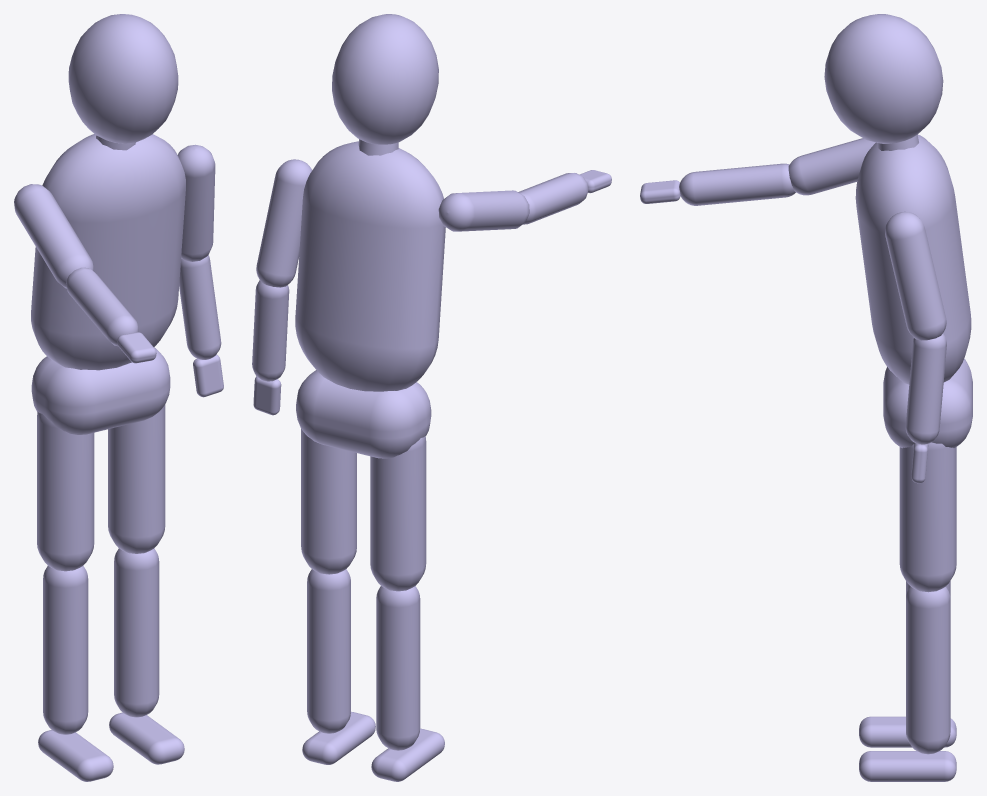
File: mannequin-child.glb
3 renders of one model, left to right at view 1: azimuth 30°, elevation 25°; view 2: azimuth 150°, elevation 25°; view 3: azimuth 270°, elevation 25°, orthographic. The views are drawn at different scales.
Parts seen in each view (by area): view 1: chest, headMesh, pelvis, thighR, thighL, shinL, shinR, upperArmR, upperArmL, foreArmL, foreArmR, footR (+3 smaller); view 2: chest, headMesh, pelvis, thighR, shinR, thighL, shinL, upperArmL, upperArmR, foreArmL, foreArmR, footL (+2 smaller); view 3: chest, headMesh, thighL, shinL, upperArmL, pelvis, foreArmR, foreArmL, upperArmR, footL, footR, handR (+1 smaller).
Part boxes in pixels (x1=…): chest: x1=31, y1=134, x2=185, y2=370; headMesh: x1=68, y1=14, x2=178, y2=143; pelvis: x1=31, y1=347, x2=170, y2=434; thighR: x1=37, y1=411, x2=94, y2=571; thighL: x1=108, y1=404, x2=165, y2=553; shinL: x1=114, y1=548, x2=159, y2=717; shinR: x1=43, y1=565, x2=88, y2=734; upperArmR: x1=14, y1=184, x2=93, y2=288; upperArmL: x1=178, y1=144, x2=215, y2=261; foreArmL: x1=179, y1=255, x2=221, y2=359; foreArmR: x1=66, y1=267, x2=138, y2=346; footR: x1=38, y1=730, x2=113, y2=781; chest: x1=295, y1=141, x2=445, y2=391; headMesh: x1=332, y1=14, x2=438, y2=144; pelvis: x1=296, y1=370, x2=431, y2=458; thighR: x1=370, y1=436, x2=426, y2=591; shinR: x1=376, y1=586, x2=420, y2=750; thighL: x1=301, y1=428, x2=356, y2=574; shinL: x1=307, y1=569, x2=350, y2=733; upperArmL: x1=256, y1=159, x2=312, y2=287; upperArmR: x1=438, y1=190, x2=529, y2=231; foreArmL: x1=252, y1=280, x2=289, y2=381; foreArmR: x1=518, y1=173, x2=588, y2=224; footL: x1=302, y1=711, x2=375, y2=764; chest: x1=855, y1=134, x2=971, y2=384; headMesh: x1=824, y1=14, x2=943, y2=143; thighL: x1=899, y1=442, x2=956, y2=592; shinL: x1=906, y1=586, x2=950, y2=754; upperArmL: x1=885, y1=211, x2=946, y2=340; pelvis: x1=883, y1=358, x2=972, y2=448; foreArmR: x1=679, y1=163, x2=795, y2=205; foreArmL: x1=905, y1=333, x2=946, y2=444; upperArmR: x1=788, y1=138, x2=875, y2=195; footL: x1=859, y1=751, x2=956, y2=781; footR: x1=859, y1=716, x2=956, y2=747; handR: x1=640, y1=180, x2=680, y2=203.
Bounding box in the file's own units: 0.4315 × 1.35 × 0.5475.
